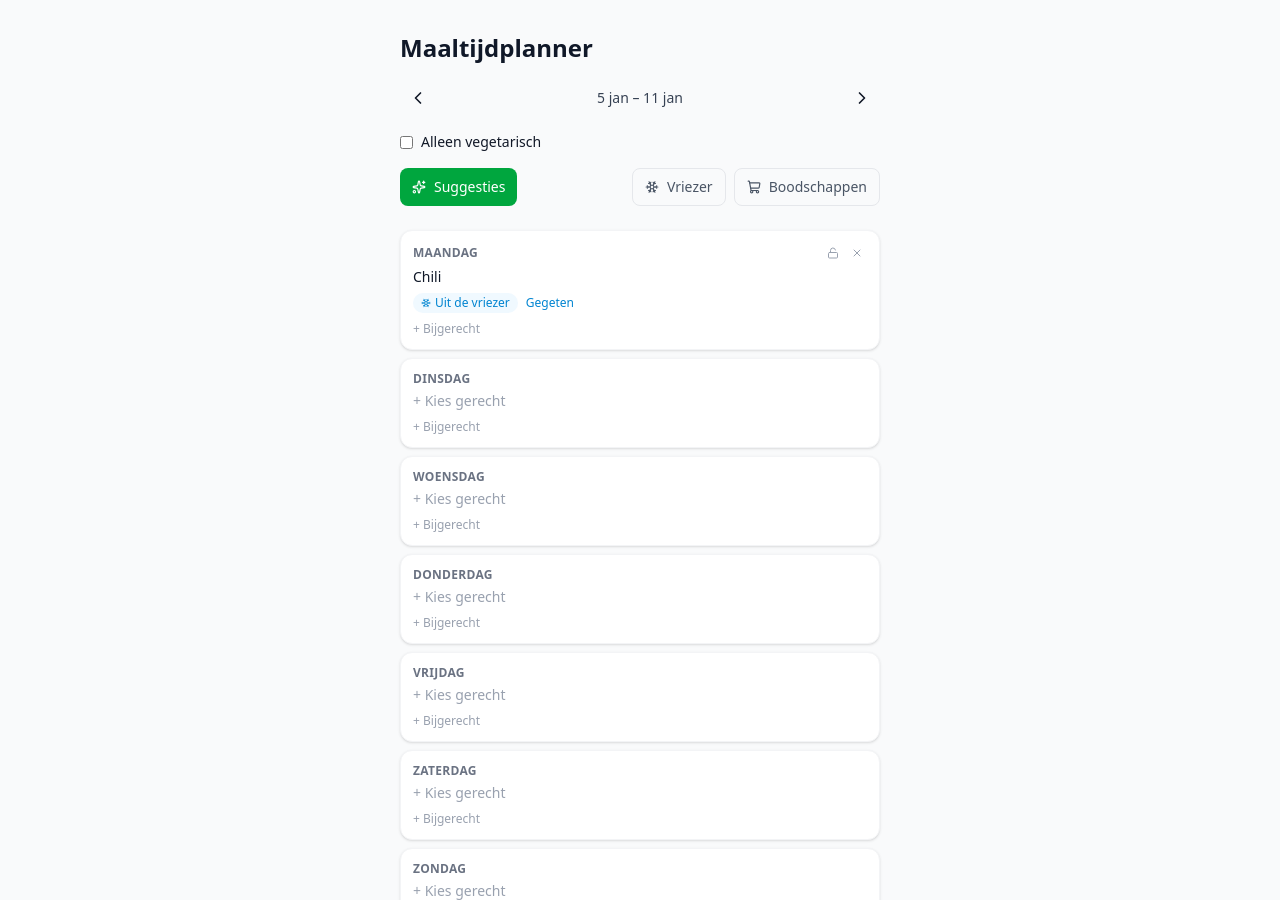
Test case: Planner freezer integration › shows the "Gegeten" action for a freezer-linked day and consumes portions on confirm
Expected: the text "Uit de vriezer" is shown, top-left (413, 293), bottom-right (518, 313)
Click the button "Gegeten" at (550, 303), box top-left (526, 295), bottom-right (574, 311)
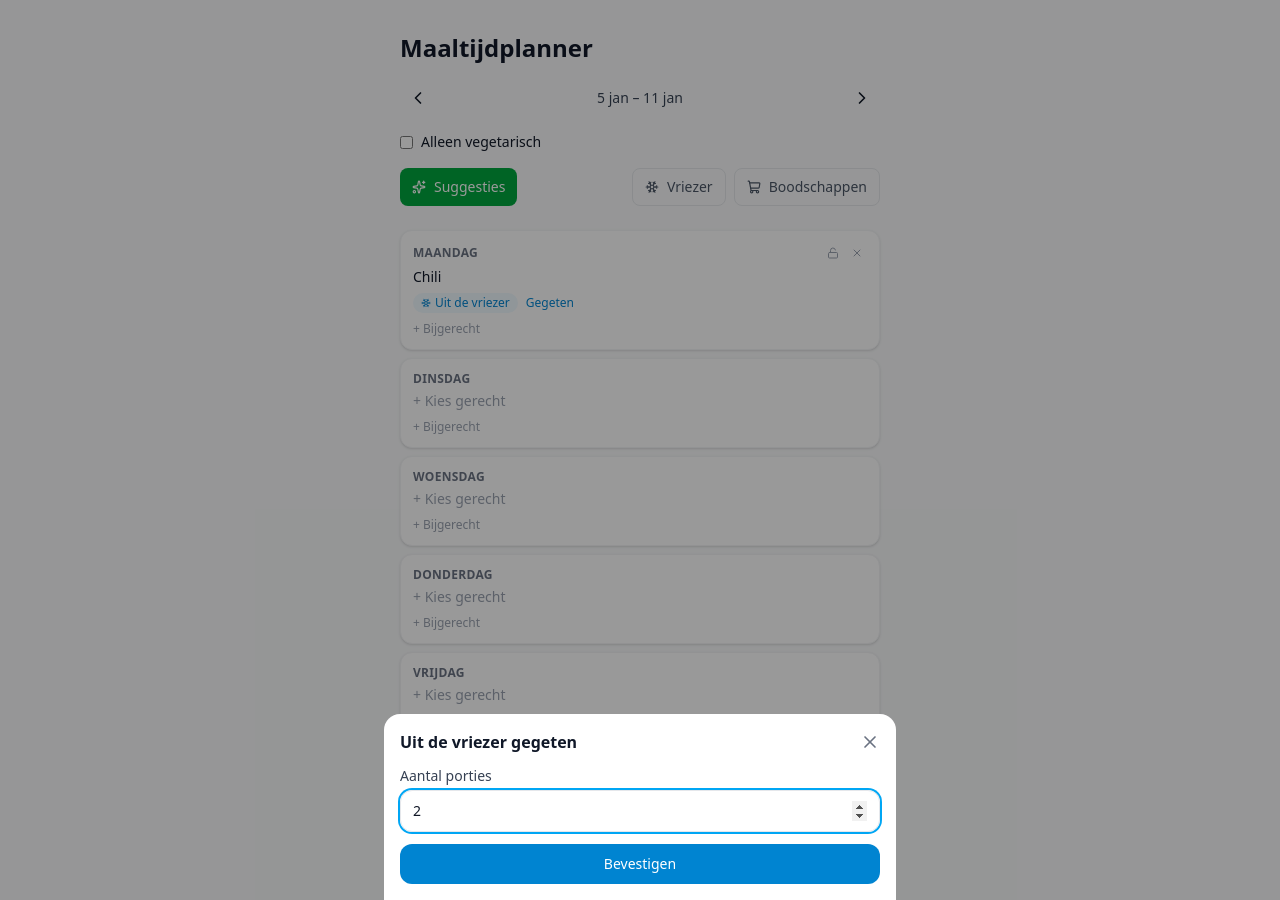
Now the number field holds "2", box top-left (400, 790), bottom-right (880, 832)
Click the button "Bevestigen" at (640, 864), box top-left (400, 844), bottom-right (880, 884)
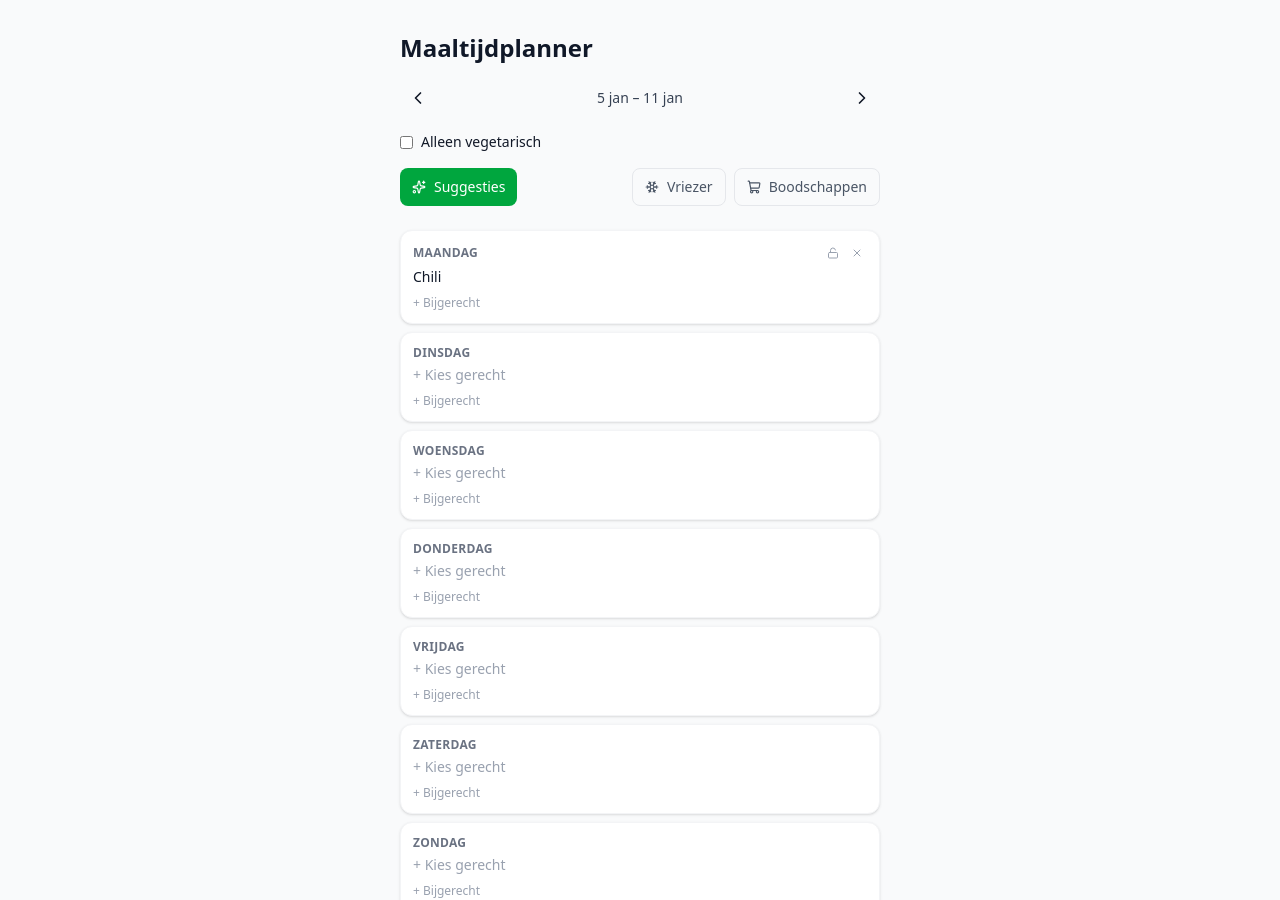
Now the text "Uit de vriezer" is gone
